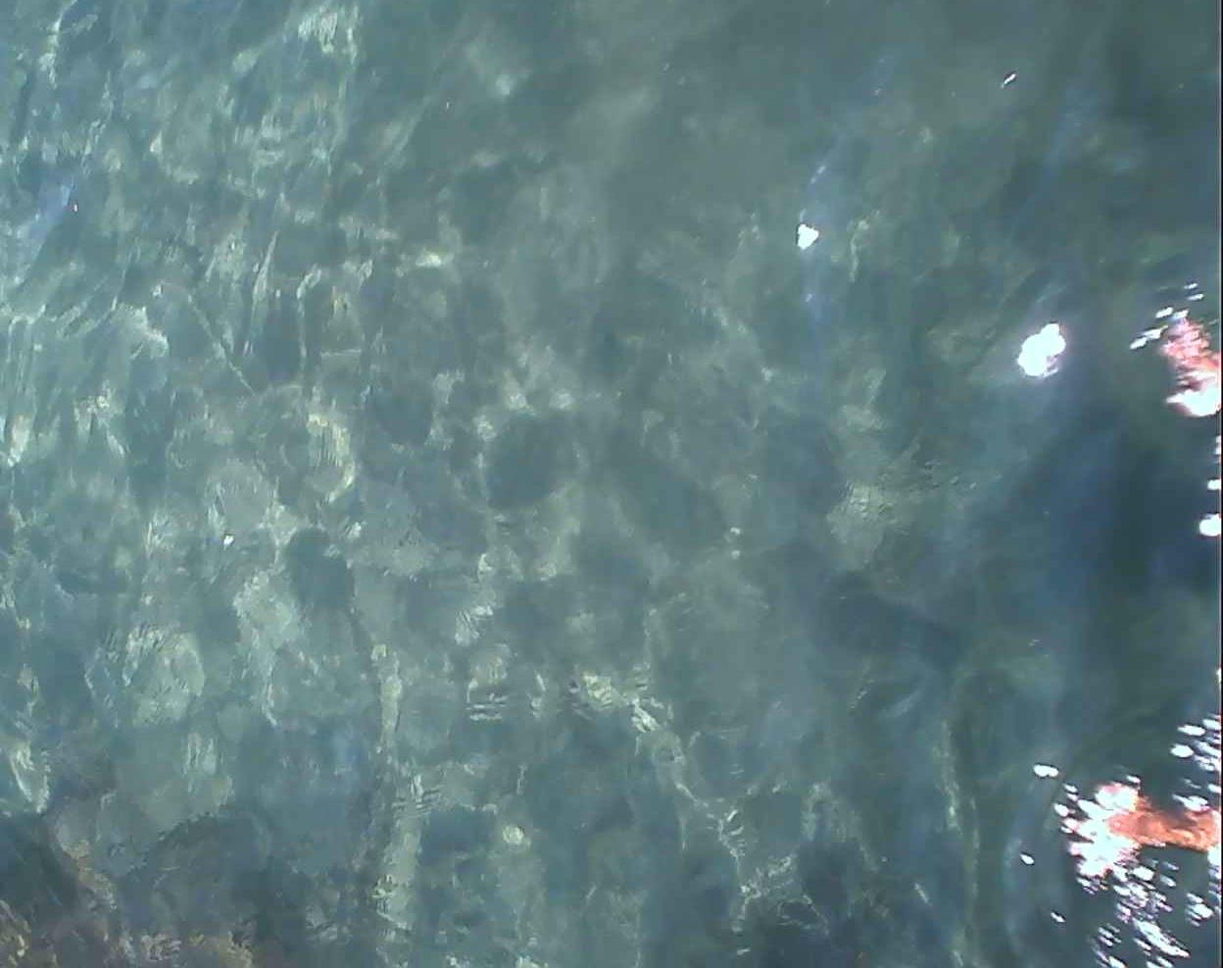human: (1059, 713, 1213, 952)
